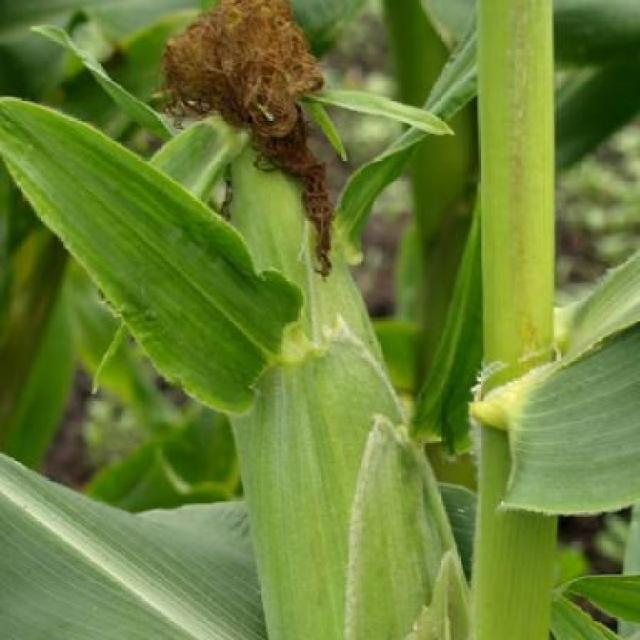Corn: (137, 103, 434, 639)
